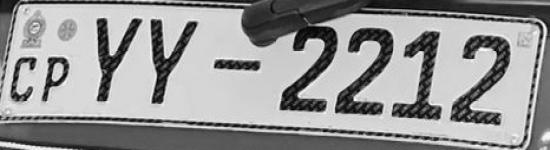-: (211, 52, 265, 78)
1: (396, 27, 445, 121)
2: (445, 26, 513, 131), (275, 18, 338, 120), (337, 21, 395, 118)
C: (8, 52, 38, 108)
P: (40, 52, 71, 109)
Y: (145, 13, 201, 110), (90, 12, 144, 108)
